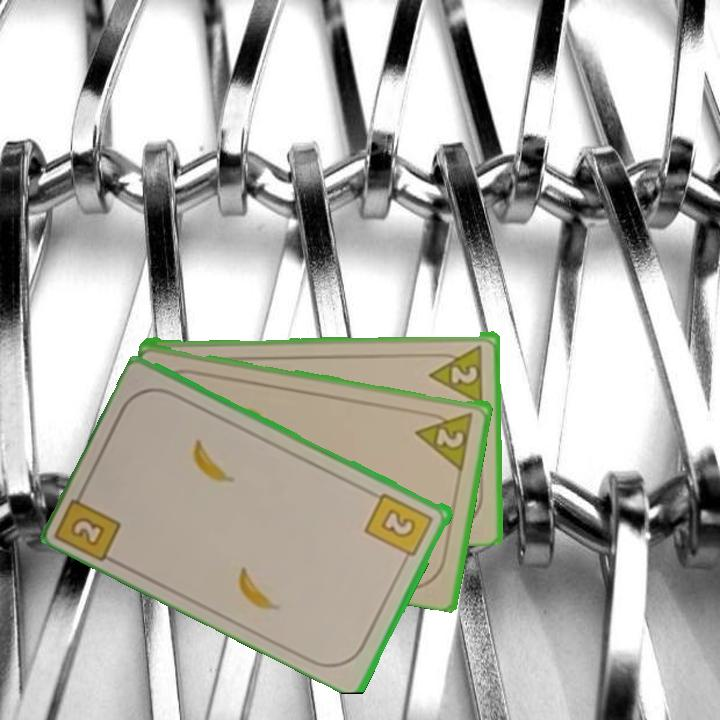2b: (362, 489, 437, 567), (55, 481, 125, 563)
2p: (413, 408, 476, 471), (426, 341, 486, 404)
